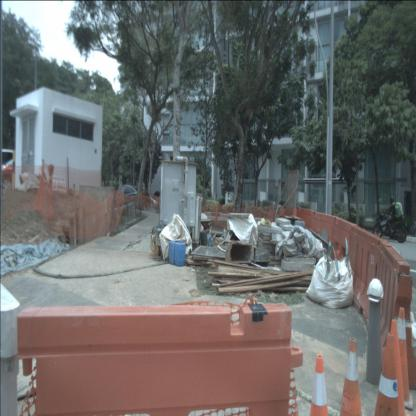movable_object-barrier: (16, 300, 303, 416), (374, 240, 416, 390), (349, 223, 387, 316), (332, 216, 358, 302), (312, 210, 334, 269), (295, 206, 313, 250), (284, 206, 298, 242), (273, 205, 284, 234)
movable_object-trafficcone: (382, 316, 408, 415), (390, 303, 414, 409), (374, 331, 402, 415), (339, 336, 365, 416), (307, 353, 332, 416)
vehicle-car: (0, 149, 35, 194), (115, 185, 150, 207)
vehicle-motorcycle: (373, 196, 407, 243)
